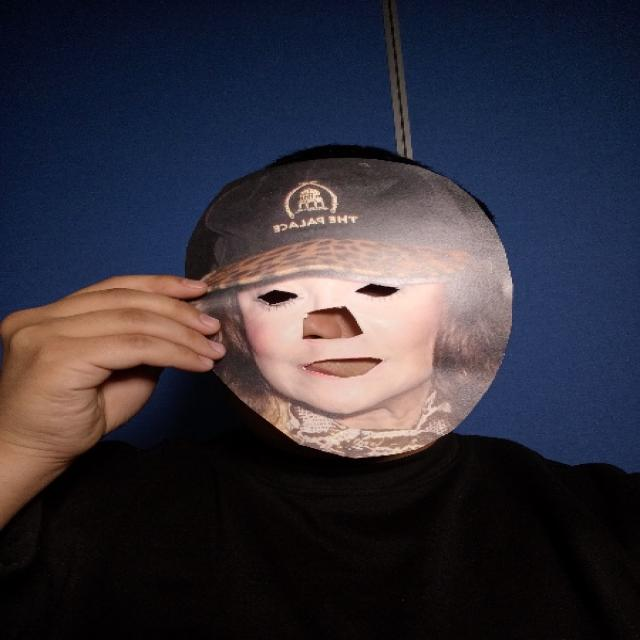mask: (178, 158, 519, 461)
